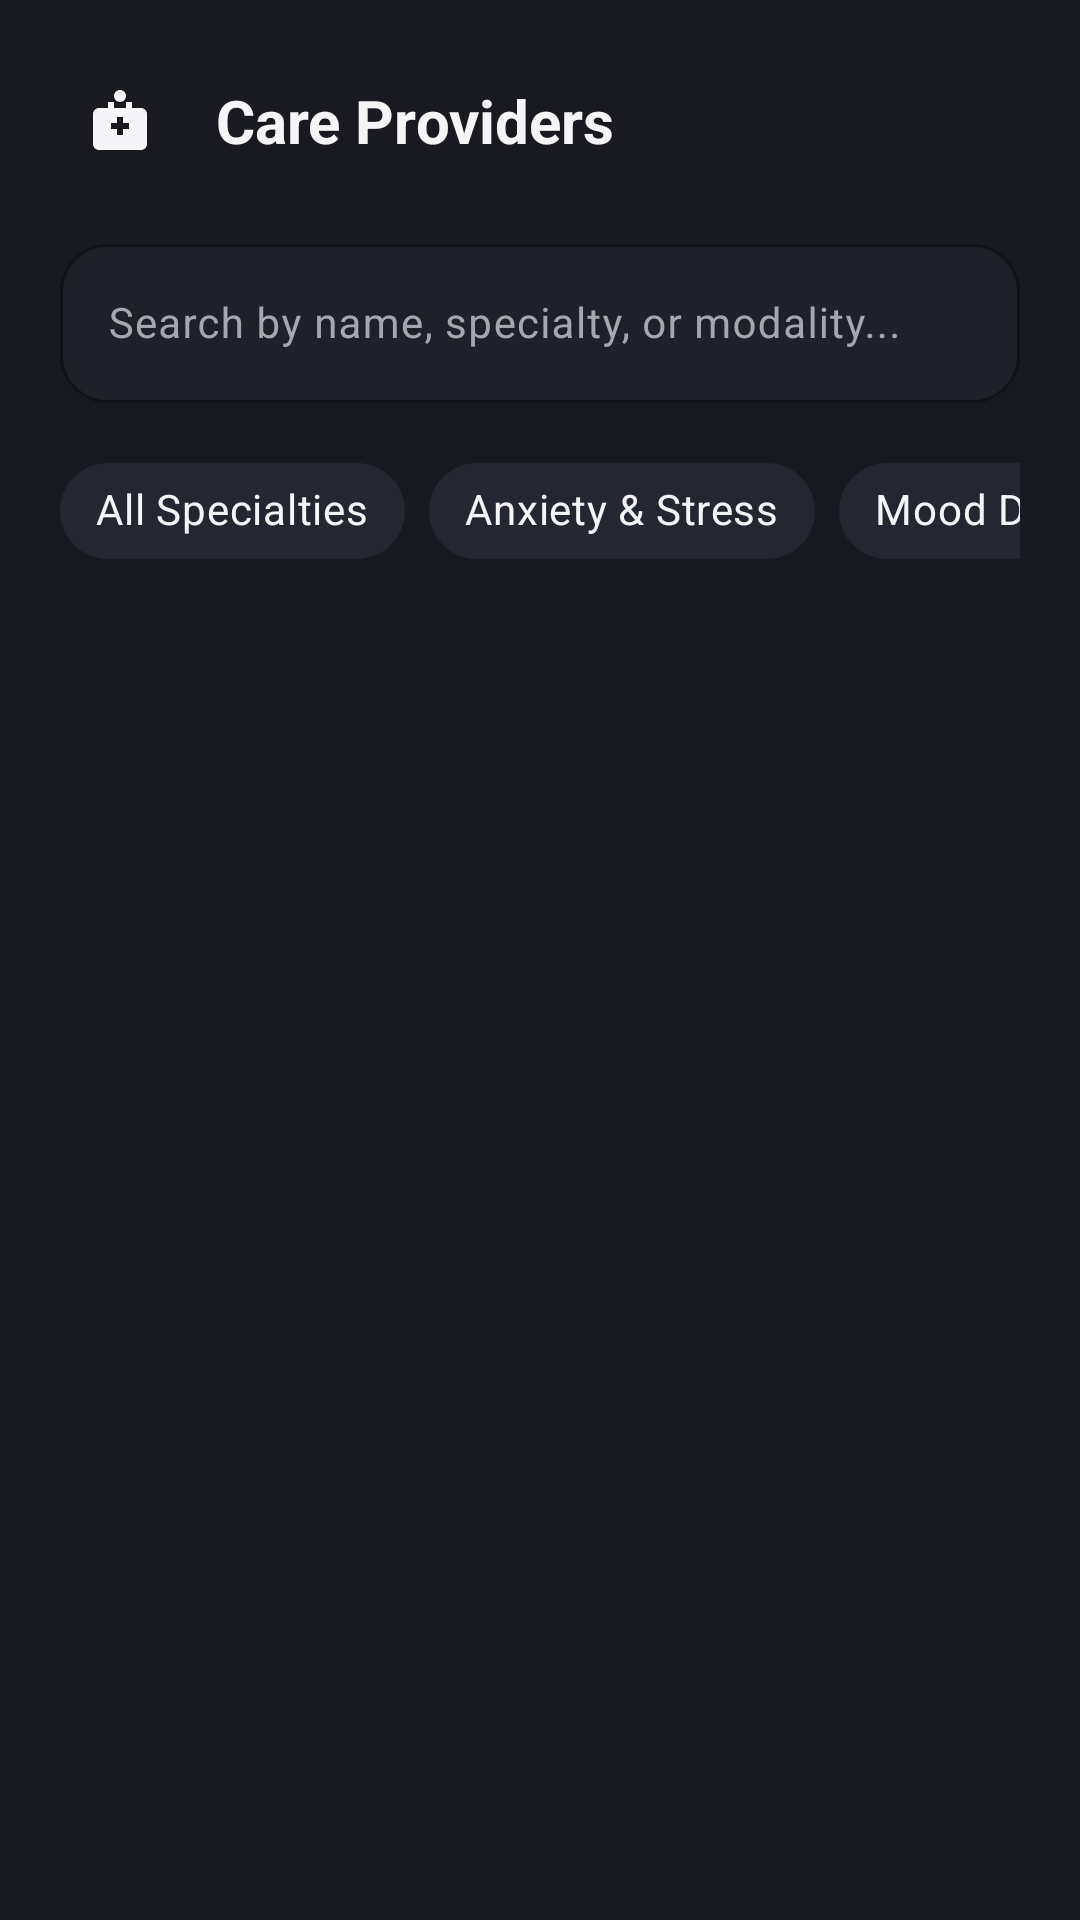

Icon click points for this 1080px x 1920px phone screenshot, format [x,y]:
doctor: [120,120]
